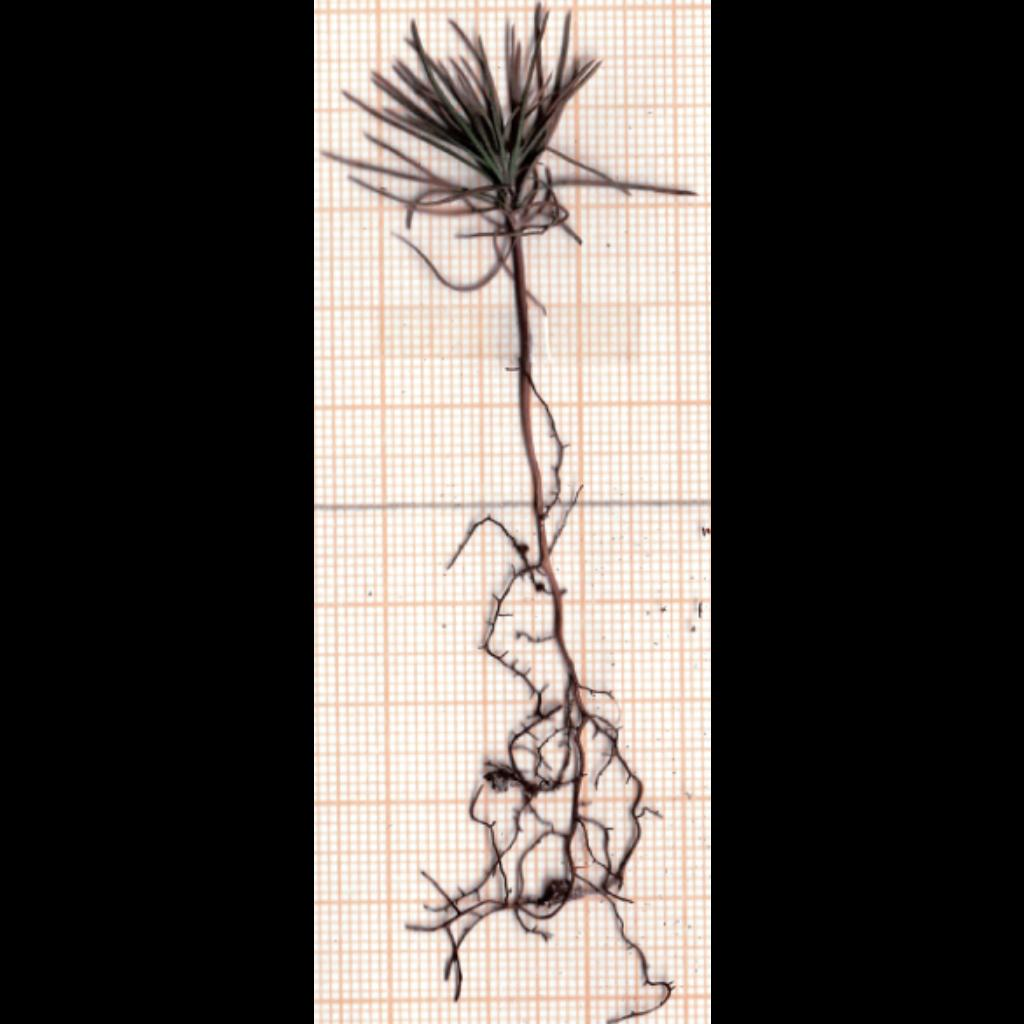flowerCedr: (325, 4, 693, 290)
rootCedr: (451, 492, 648, 945)
stemCedr: (512, 237, 543, 528)
